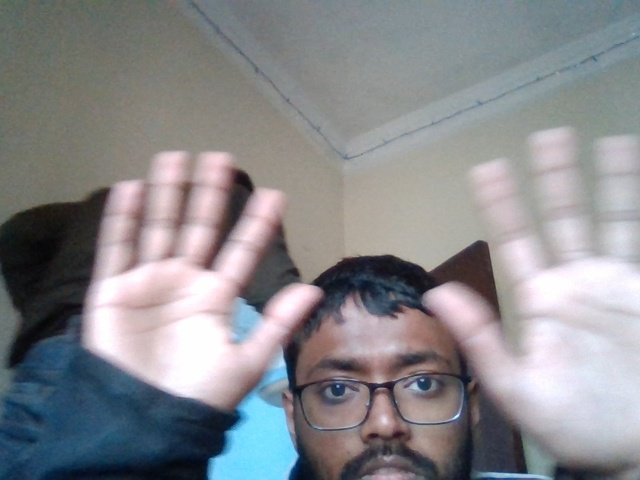Hello: (413, 133, 640, 447), (56, 147, 329, 405)
